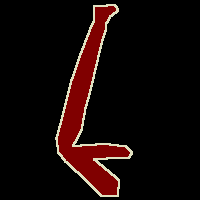tie: (56, 4, 132, 196)
